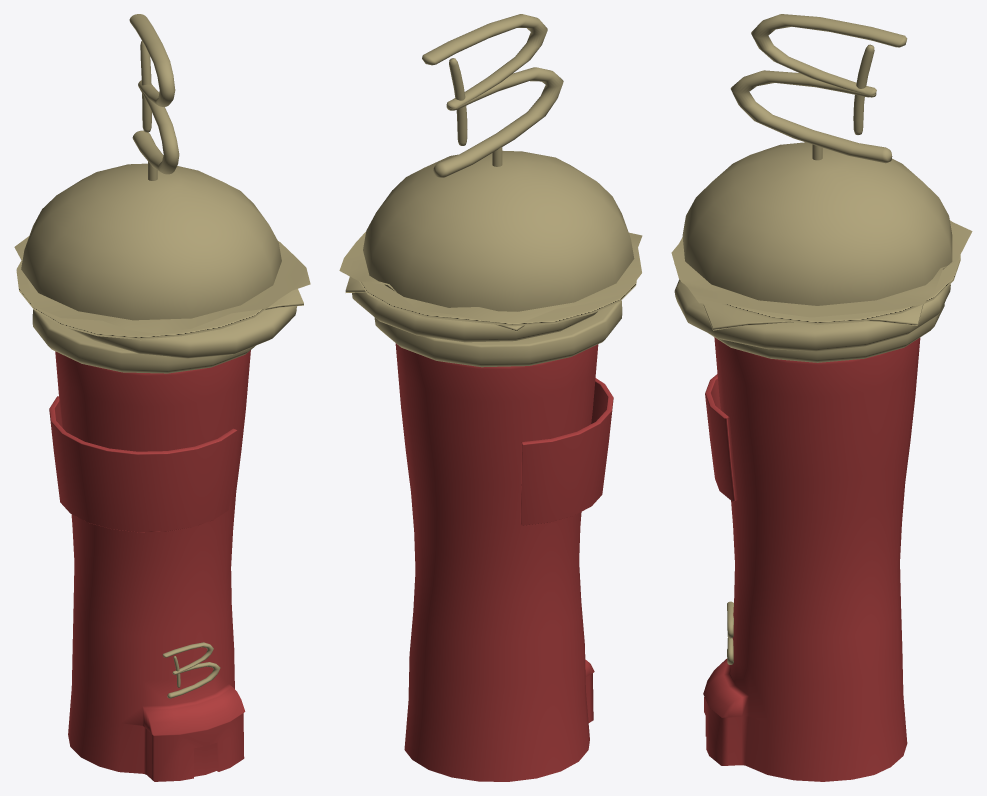
The model's file is SM_Building_Food_A.fbx.
The picture shows the model from 3 angles, left to right: view 1: azimuth 30°, elevation 25°; view 2: azimuth 150°, elevation 25°; view 3: azimuth 270°, elevation 25°; orthographic projection. The views are drawn at different scales.
Parts seen in each view (by area): view 1: FoodA; view 2: FoodA; view 3: FoodA.
Boxes of the visible parts, bbox=[...] form: FoodA: bbox=[14, 14, 310, 781]; FoodA: bbox=[339, 14, 642, 781]; FoodA: bbox=[671, 14, 972, 781].
Size of the model in its own units: 357 by 950 by 357.
